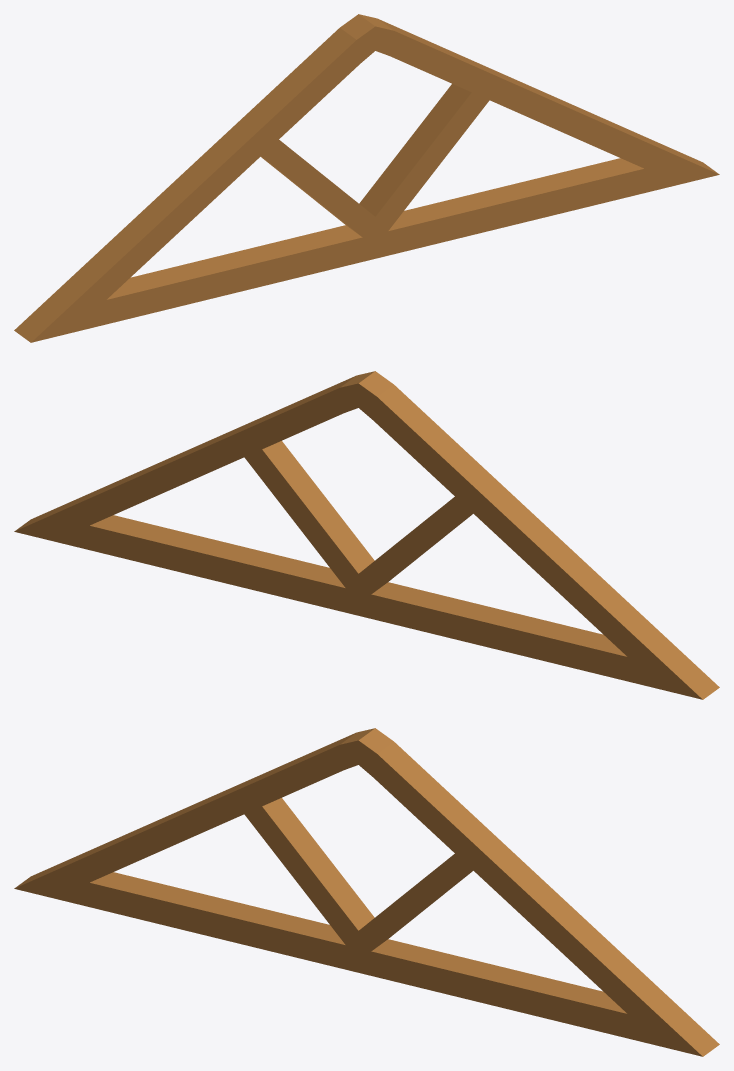
3 renders of one model, top to bottom at view 1: azimuth 30°, elevation 25°; view 2: azimuth 150°, elevation 25°; view 3: azimuth 330°, elevation 25°, orthographic.
Visible parts, largest first — view 1: I-20; view 2: I-20; view 3: I-20.
Part boxes in pixels (box(x1,y1,x2,y2)): I-20: box(14, 14, 719, 342); I-20: box(14, 371, 719, 699); I-20: box(14, 728, 719, 1056).
Size of the model in its own units: 890 by 287 by 37.76.
